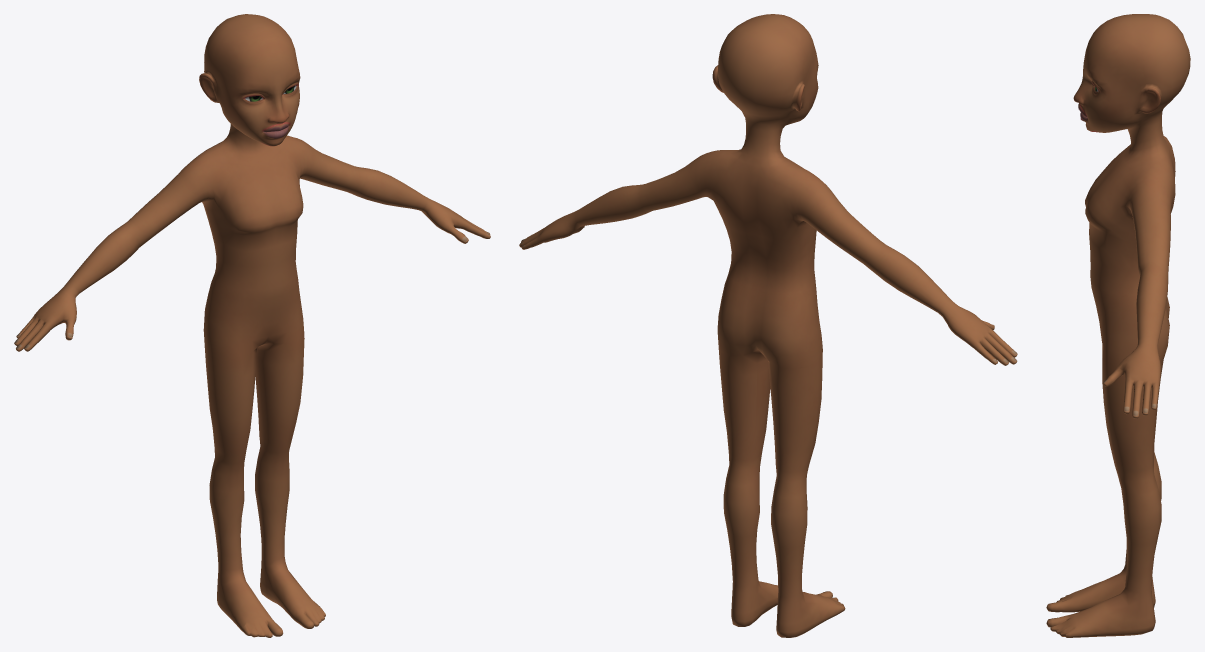
File: frame_0088.glb
3 views of the same model, side by side, from view 1: azimuth 30°, elevation 25°; view 2: azimuth 150°, elevation 25°; view 3: azimuth 270°, elevation 25° (orthographic). The views are drawn at different scales.
Parts seen in each view (by area): view 1: frame_0088_head_geo; view 2: frame_0088_head_geo; view 3: frame_0088_head_geo.
Boxes of the visible parts, x1,y1,x2,y2 form: frame_0088_head_geo: (14,14,490,637); frame_0088_head_geo: (519,14,1017,637); frame_0088_head_geo: (1046,14,1190,637).
Bounding box in the file's own units: 1.28 × 1.5 × 0.3253.
3 materials, 3 textured.
